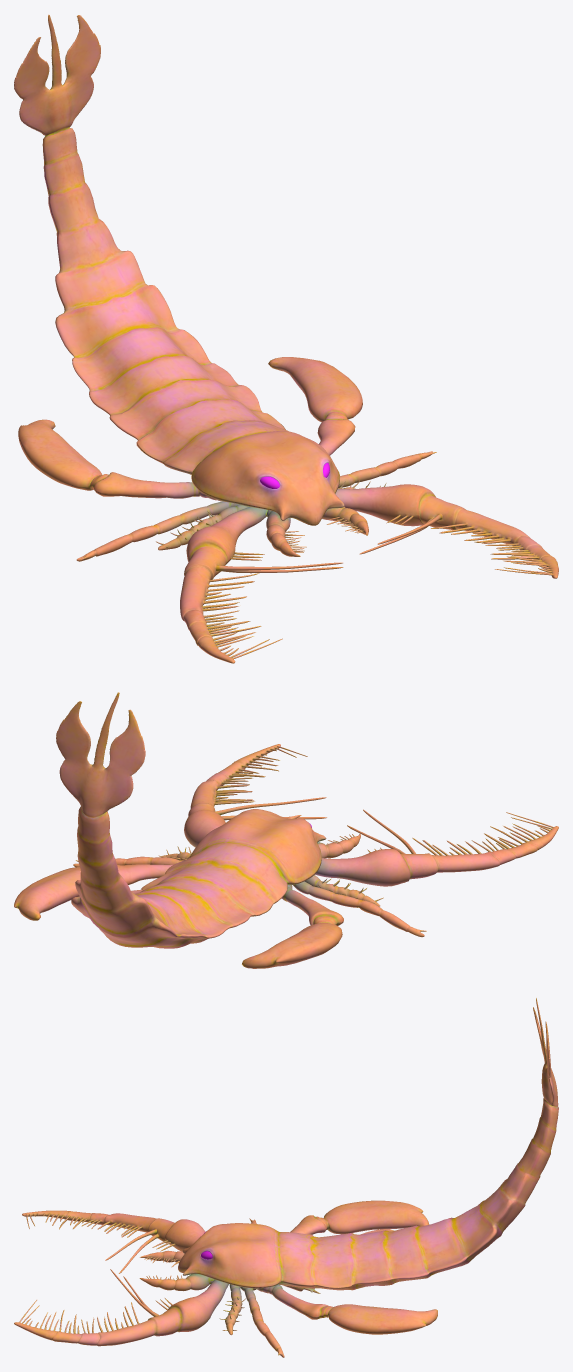
The model's file is Jaekelopterus.glb.
The picture shows the model from 3 angles, top to bottom: view 1: azimuth 30°, elevation 25°; view 2: azimuth 150°, elevation 25°; view 3: azimuth 270°, elevation 25°; orthographic projection. The views are drawn at different scales.
Parts seen in each view (by area): view 1: jaekelopterus.1; view 2: jaekelopterus.1; view 3: jaekelopterus.1.
Part boxes in pixels (x1,y1,x2,y2): jaekelopterus.1: (14, 14, 558, 663); jaekelopterus.1: (14, 692, 558, 968); jaekelopterus.1: (14, 998, 558, 1357).
Size of the model in its own units: 0.1031 by 0.0975 by 0.1688.
Materials: 1 (1 with a texture image).
